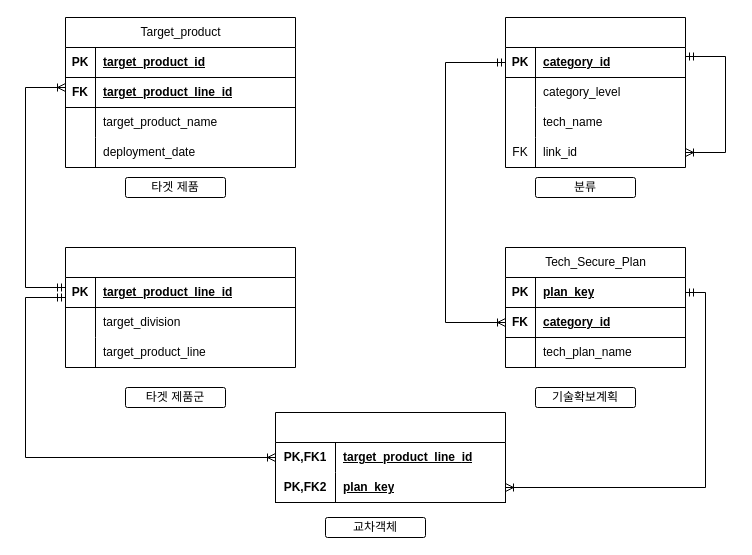
The diagram is 752 pixels wide and 555 high, and some of its shapes have lost their labels. The shapes that lost their labels are listed below. From the top down, each one's box as (x1, y1, x2, y2) in pixels, then its label:
(504, 16, 686, 168): Category_System
(64, 246, 296, 368): Target_Product_lline
(274, 412, 506, 502): Target_product_line_plan_map
